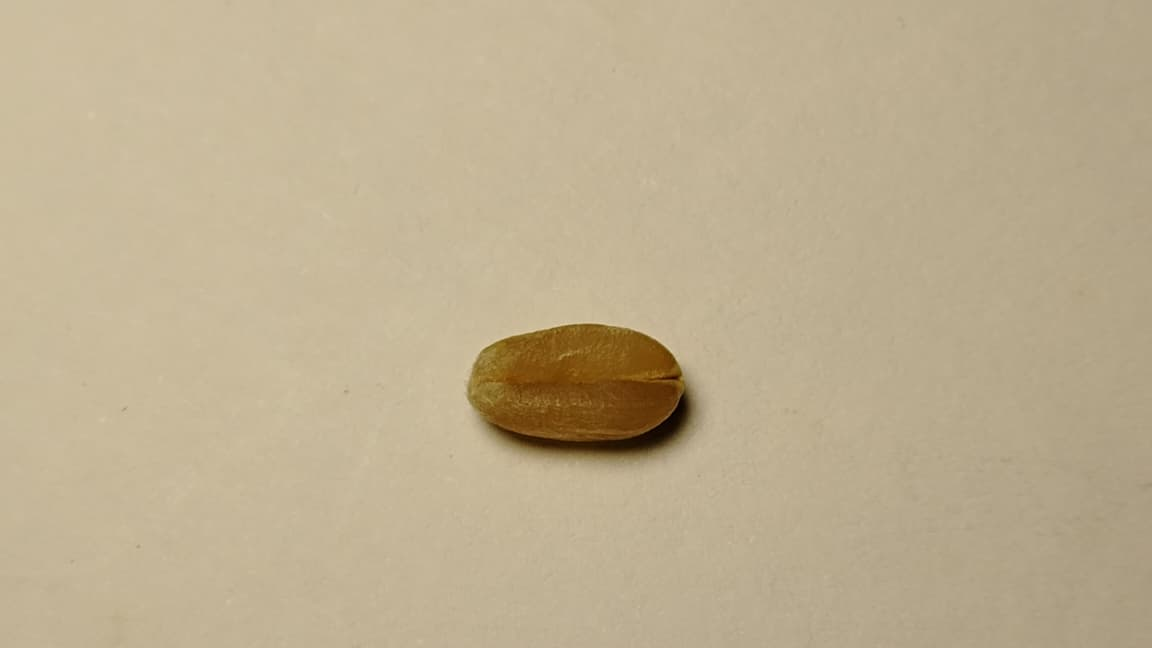healthy: (468, 324, 683, 437)
